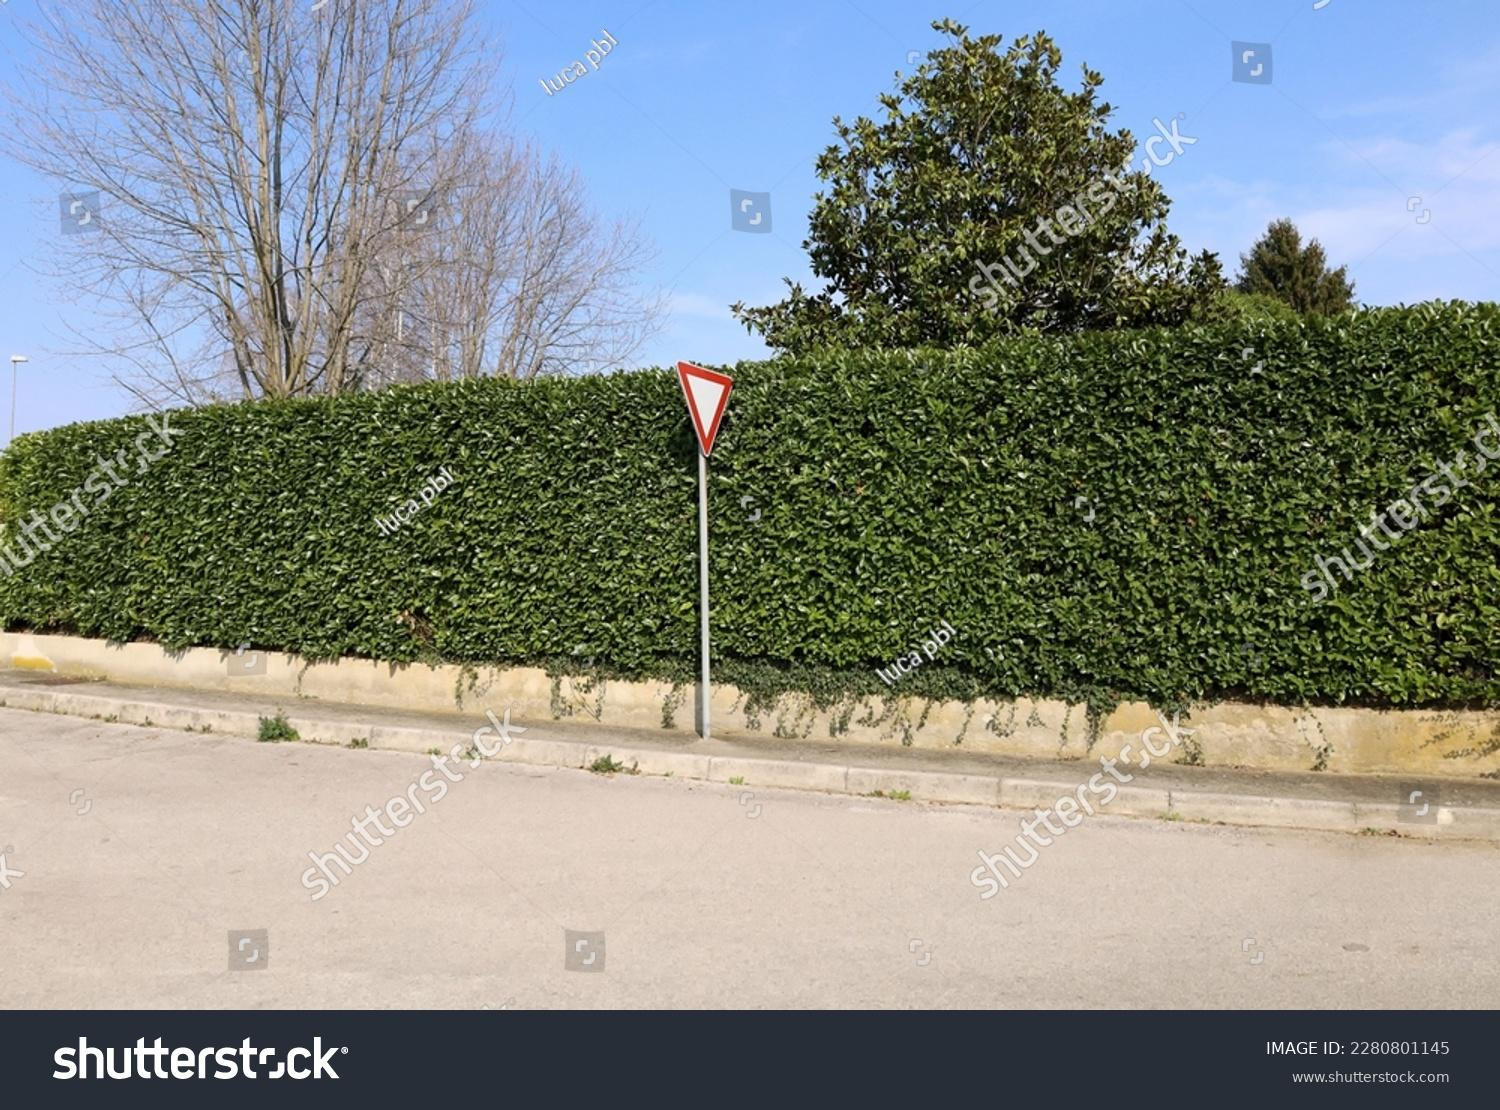Give Way: (672, 336, 763, 461)
